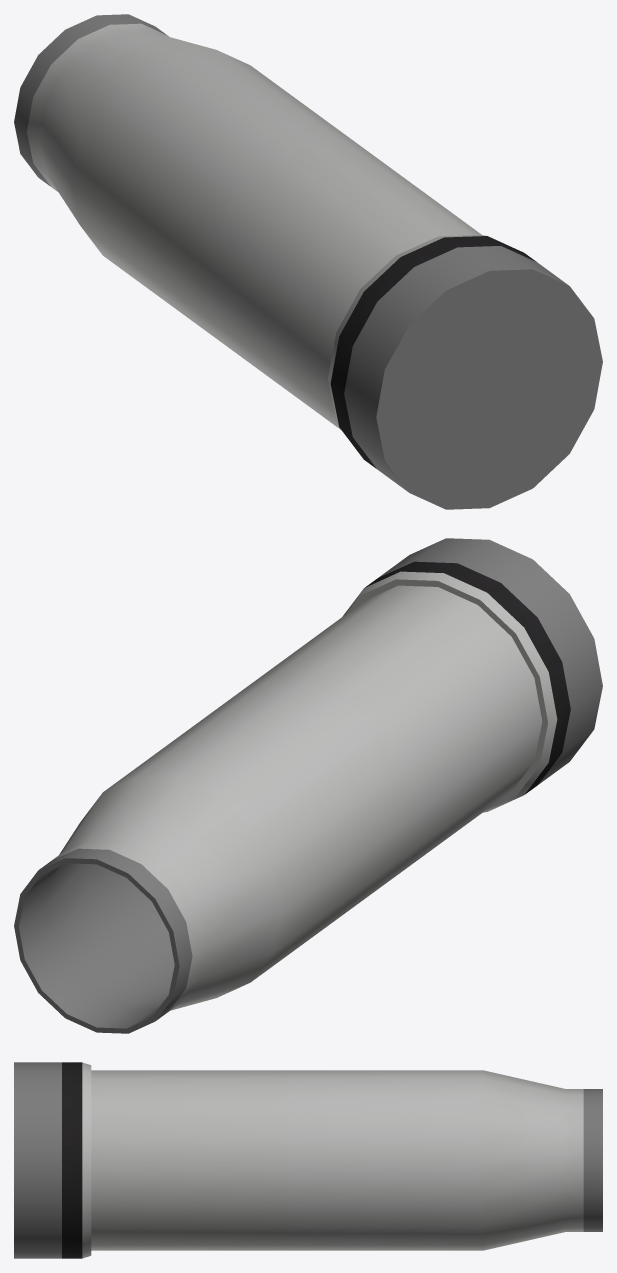
Rendered from 105_empty.fbx.
3 views of the same model, one above another, from view 1: azimuth 30°, elevation 25°; view 2: azimuth 150°, elevation 25°; view 3: azimuth 270°, elevation 25° (orthographic). The views are drawn at different scales.
Parts seen in each view (by area): view 1: Cylinder; view 2: Cylinder; view 3: Cylinder.
Boxes of the visible parts, x1=… form: Cylinder: x1=14, y1=14, x2=602, y2=509; Cylinder: x1=14, y1=538, x2=602, y2=1033; Cylinder: x1=14, y1=1062, x2=602, y2=1258.
Size of the model in its own units: 100 by 100 by 300.
